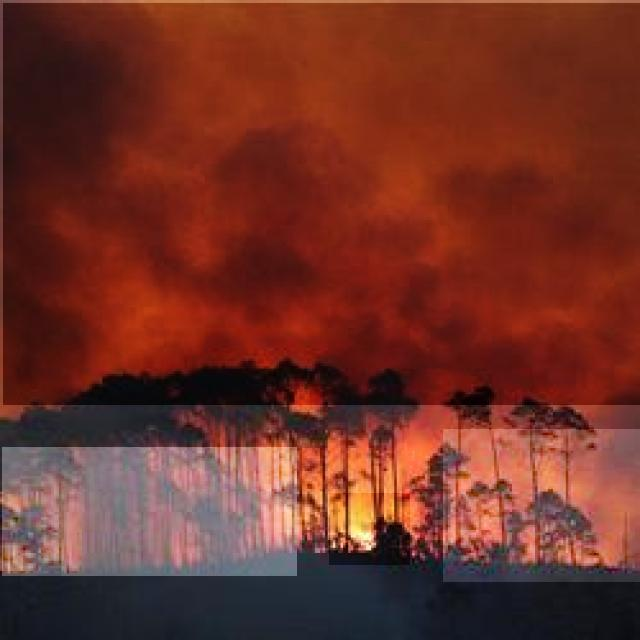Fire: (329, 493, 410, 565)
Smoke: (3, 3, 640, 405), (2, 447, 297, 576), (443, 429, 640, 582)
